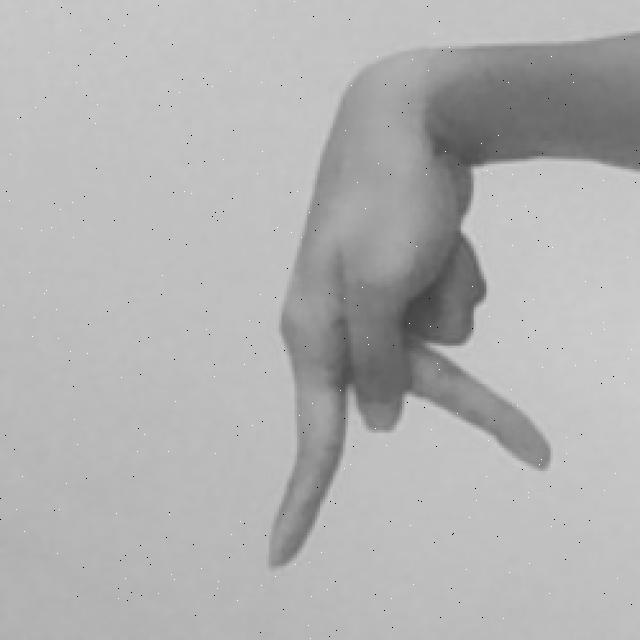P: (248, 18, 640, 576)
